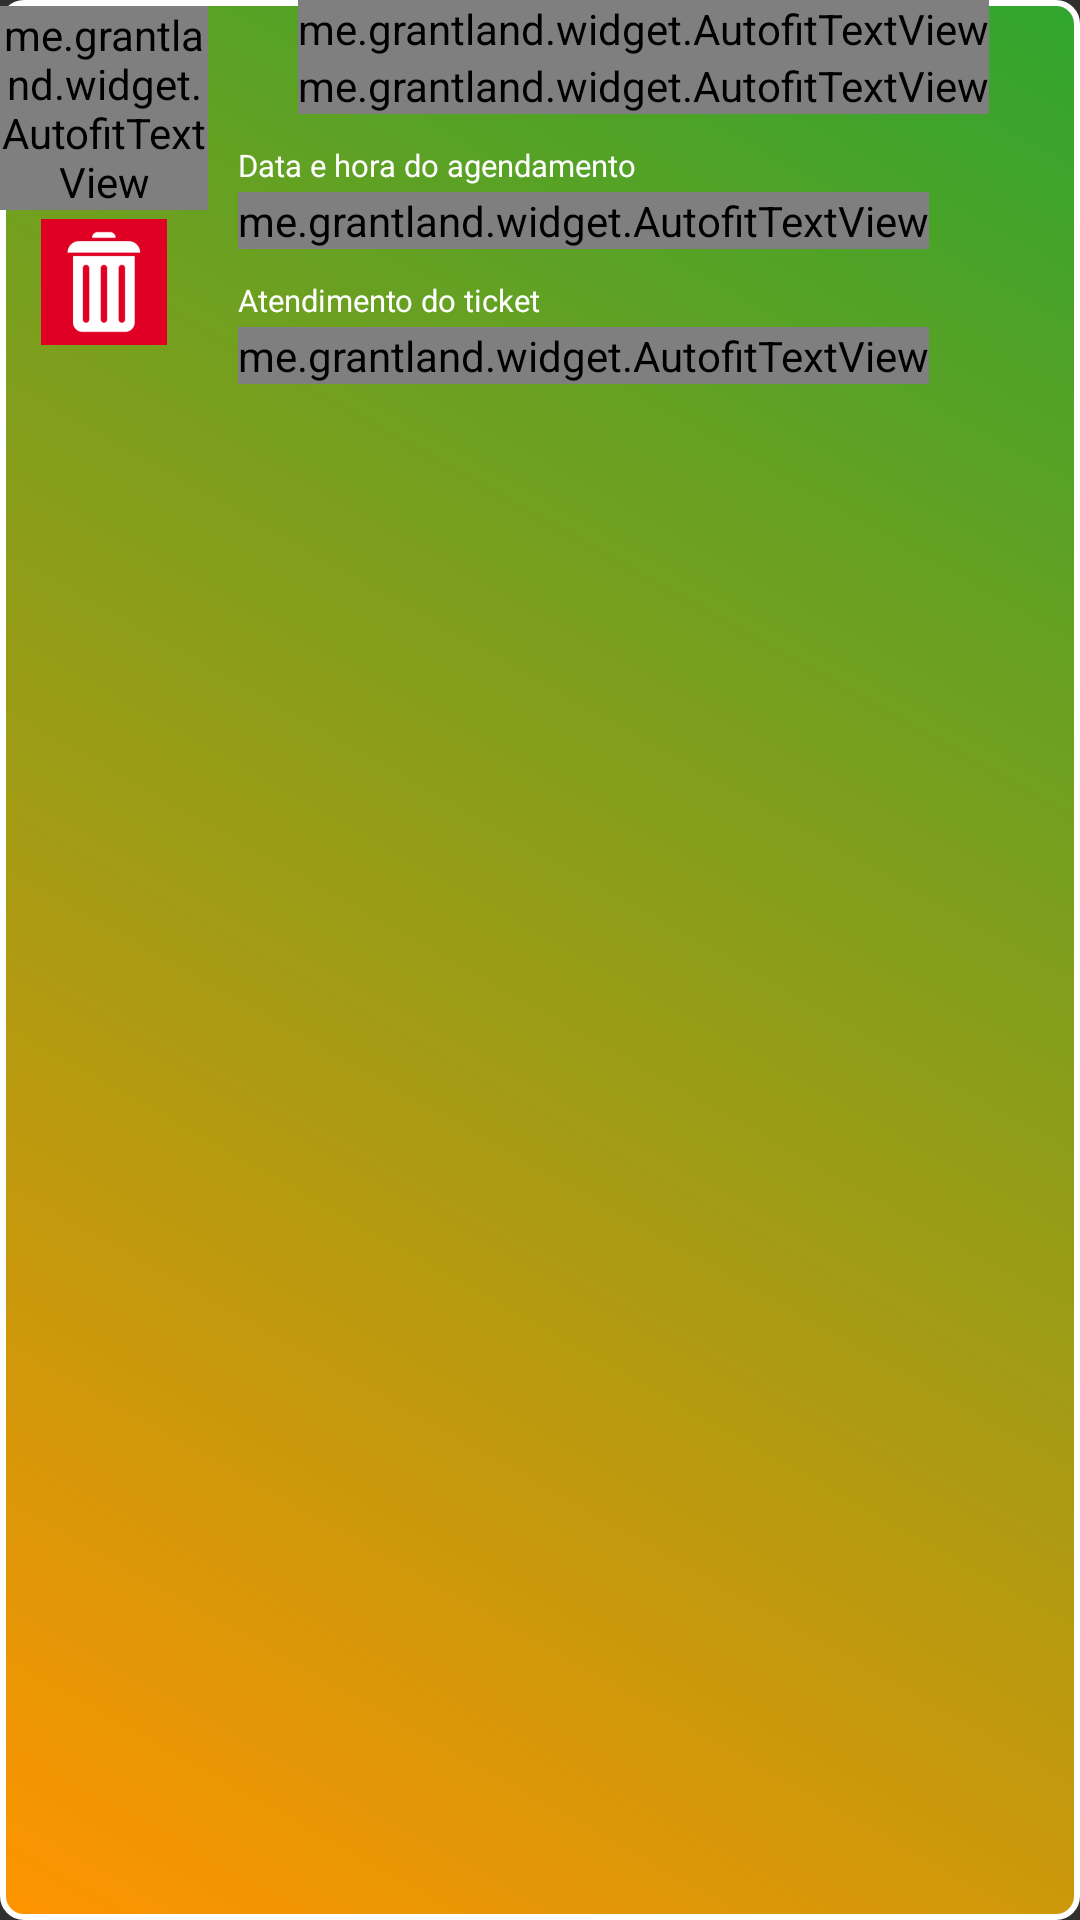

Point at icon controls on the screen. Image size 1080px x 1920px, points as point (x, y).
delete: point (104, 282)
